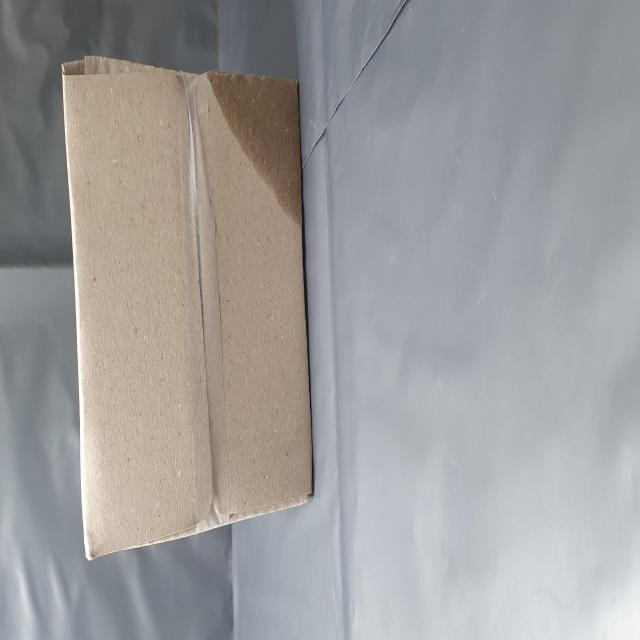wet: (234, 358, 327, 569)
